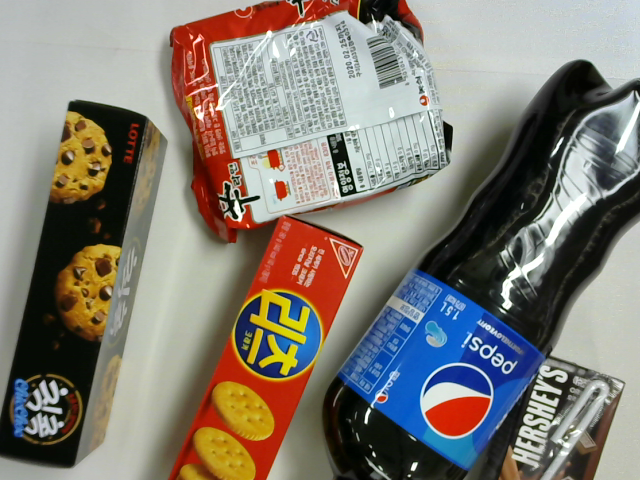Chicchok_Original_2400: (1, 105, 151, 466)
Hush_Choco_Drink: (467, 360, 615, 480)
Pepsi_Cola_1.5L: (350, 78, 632, 480)
Ritz_Cracker: (155, 213, 376, 480)
Sinramen: (164, 1, 465, 196)
